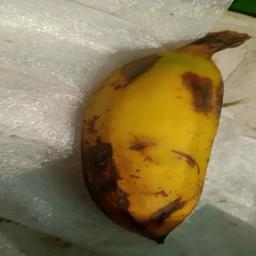Banana Semirotten: (80, 26, 256, 253)
